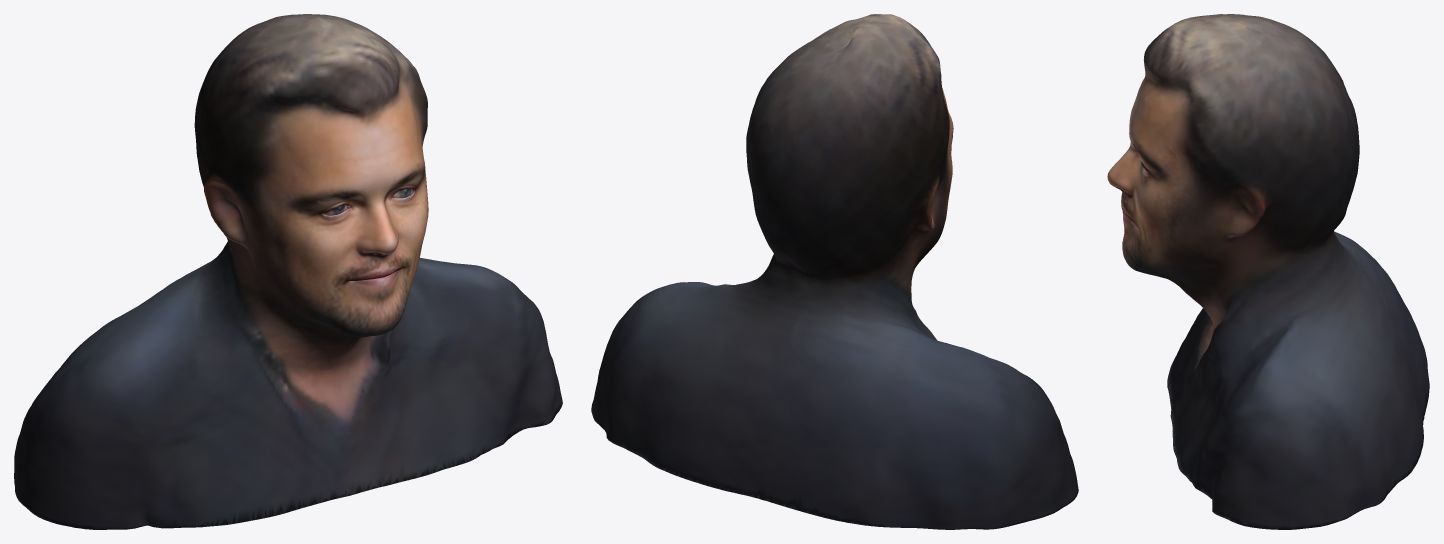
File: leonardodicaprio.gltf
The picture shows the model from 3 angles, left to right: view 1: azimuth 30°, elevation 25°; view 2: azimuth 150°, elevation 25°; view 3: azimuth 270°, elevation 25°; orthographic projection. The views are drawn at different scales.
Visible parts, largest first — view 1: node-0; view 2: node-0; view 3: node-0.
Part boxes in pixels (x1,y1,x2,y2): node-0: [14, 14, 562, 529]; node-0: [591, 14, 1078, 529]; node-0: [1107, 14, 1429, 529].
Size of the model in its own units: 0.4777 by 0.3944 by 0.2901.
Materials: 1 (1 with a texture image).
